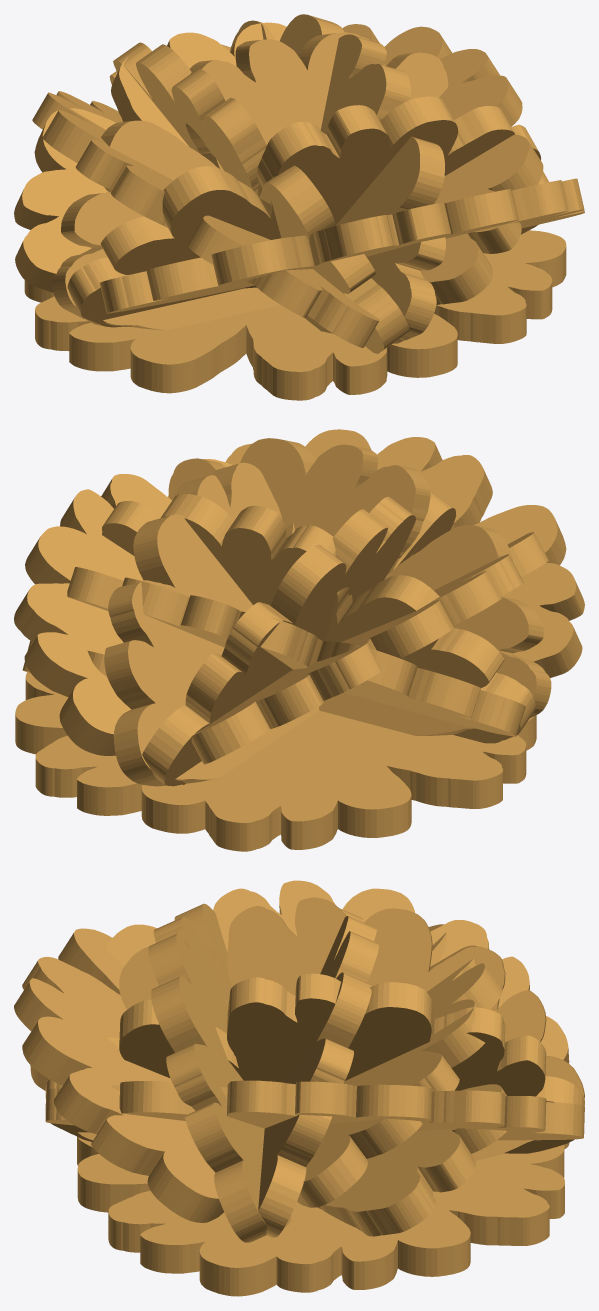
Rendered from Brave Snicket.gltf.
3 renders of one model, top to bottom at view 1: azimuth 30°, elevation 25°; view 2: azimuth 150°, elevation 25°; view 3: azimuth 270°, elevation 25°, orthographic.
Visible parts, largest first — view 1: Mesh_Mesh_head_geo.001_lambert2SG.001; view 2: Mesh_Mesh_head_geo.001_lambert2SG.001; view 3: Mesh_Mesh_head_geo.001_lambert2SG.001.
Part boxes in pixels (box(x1,y1,x2,y2)): Mesh_Mesh_head_geo.001_lambert2SG.001: box(14, 14, 584, 400); Mesh_Mesh_head_geo.001_lambert2SG.001: box(14, 429, 584, 851); Mesh_Mesh_head_geo.001_lambert2SG.001: box(14, 880, 584, 1296).
Bounding box in the file's own units: 35.83 × 18.09 × 36.26.
